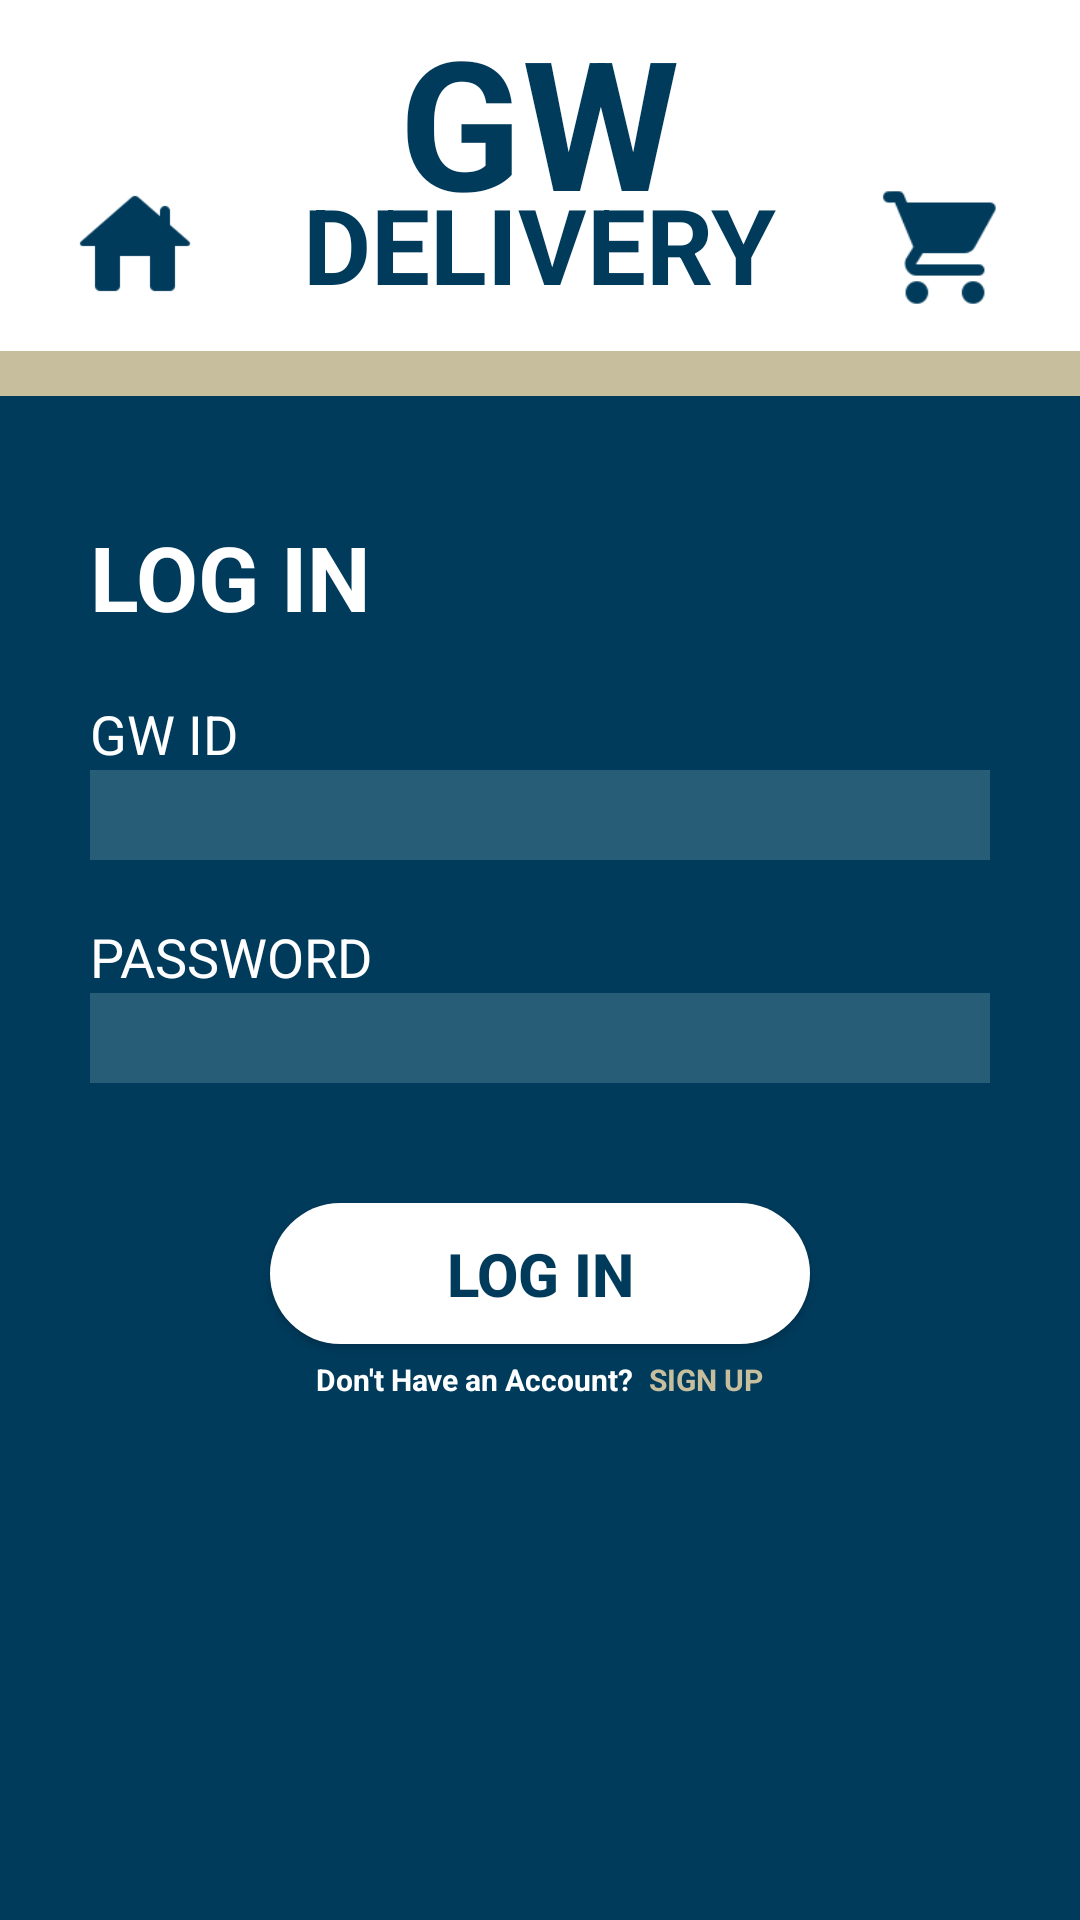

Screen size 1080 x 1920. Icon name, then its box in pixels as (x1, y1, x2, y2):
home: (80, 196, 190, 292)
shopping cart: (883, 191, 996, 304)
